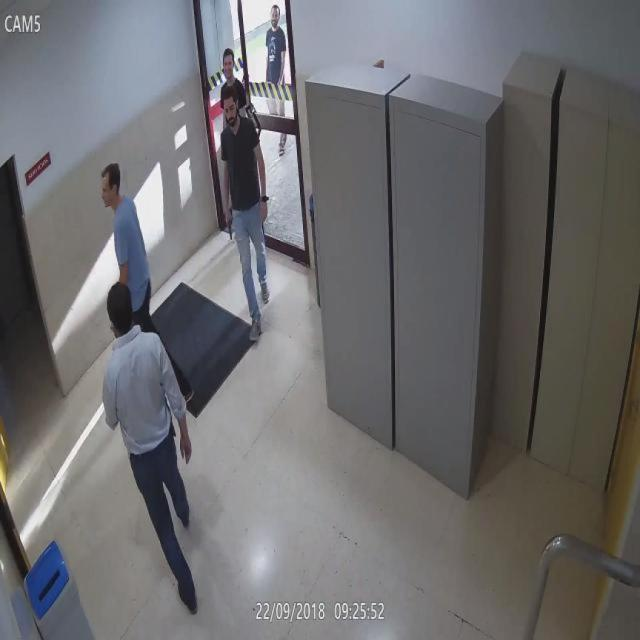pistol: (163, 390, 174, 432), (224, 208, 234, 246)
